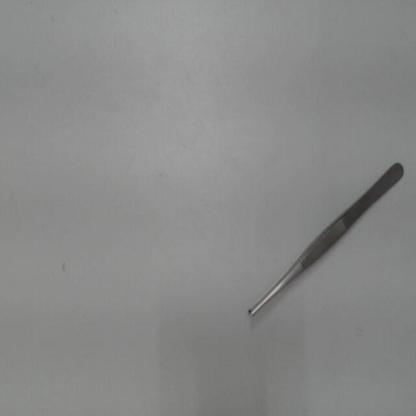Gillies Toothed Dissector: (241, 143, 410, 325)
